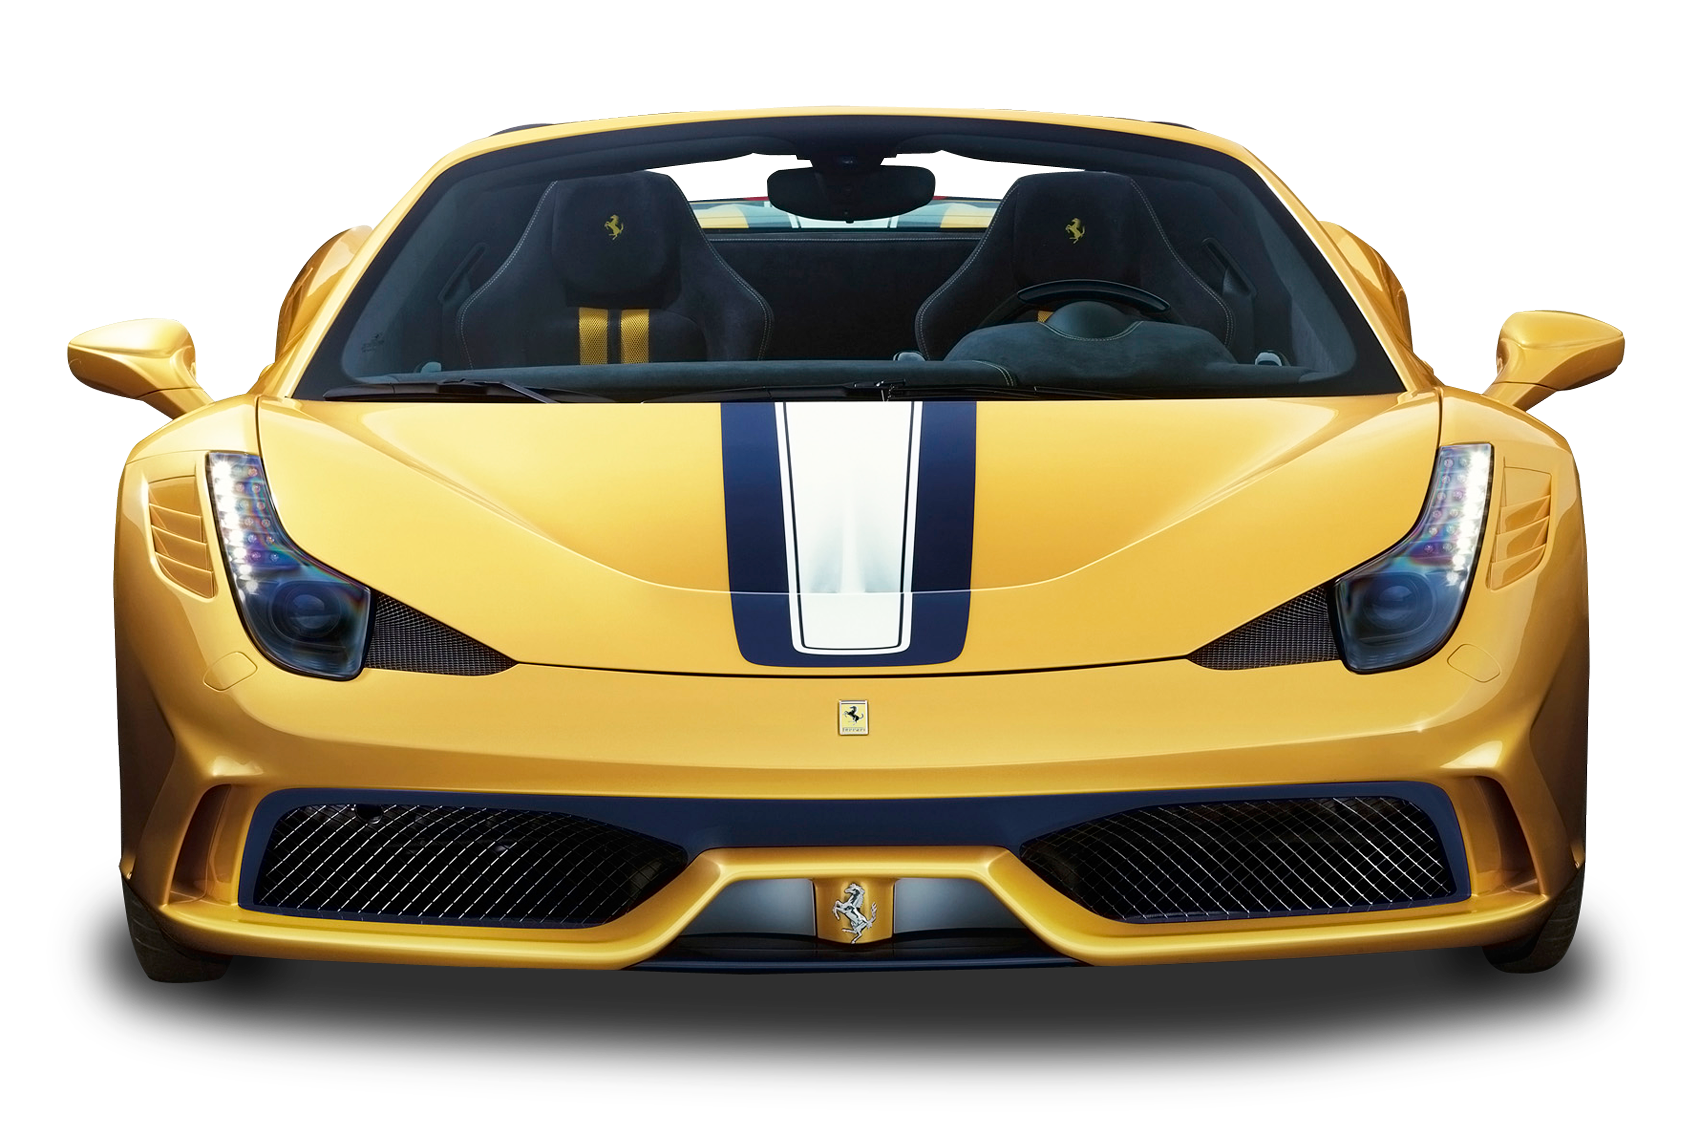P1_: (1046, 799, 1058, 815)
bbox: (668, 799, 1045, 950)
